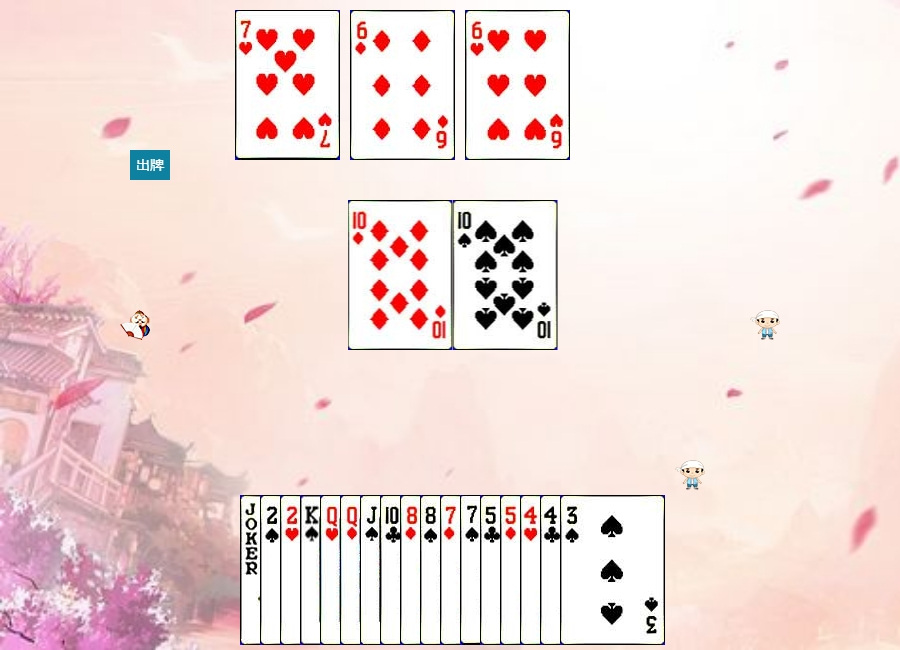10~1: (348, 200, 453, 350)
10~2: (380, 495, 485, 645)
10~4: (453, 200, 558, 350)
11~4: (360, 495, 465, 645)
12~1: (340, 495, 445, 645)
12~3: (320, 495, 425, 645)
13~4: (300, 495, 405, 645)
15~3: (280, 495, 385, 645)
15~4: (260, 495, 365, 645)
17~3: (240, 495, 345, 645)
3~4: (560, 495, 665, 645)
4~2: (540, 495, 645, 645)
4~3: (520, 495, 625, 645)
5~1: (500, 495, 605, 645)
5~2: (480, 495, 585, 645)
6~1: (350, 10, 455, 160)
6~3: (465, 10, 570, 160)
7~1: (440, 495, 545, 645)
7~3: (235, 10, 340, 160)
7~4: (460, 495, 565, 645)
8~1: (400, 495, 505, 645)
8~4: (420, 495, 525, 645)
